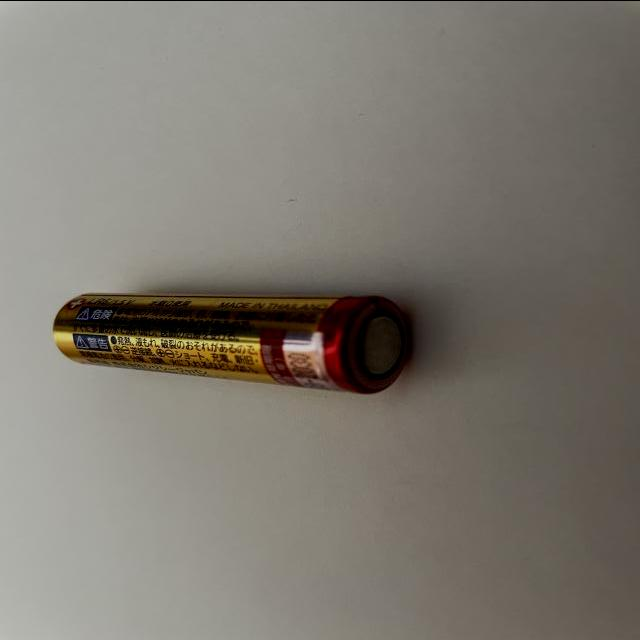AAA: (52, 288, 416, 394)
